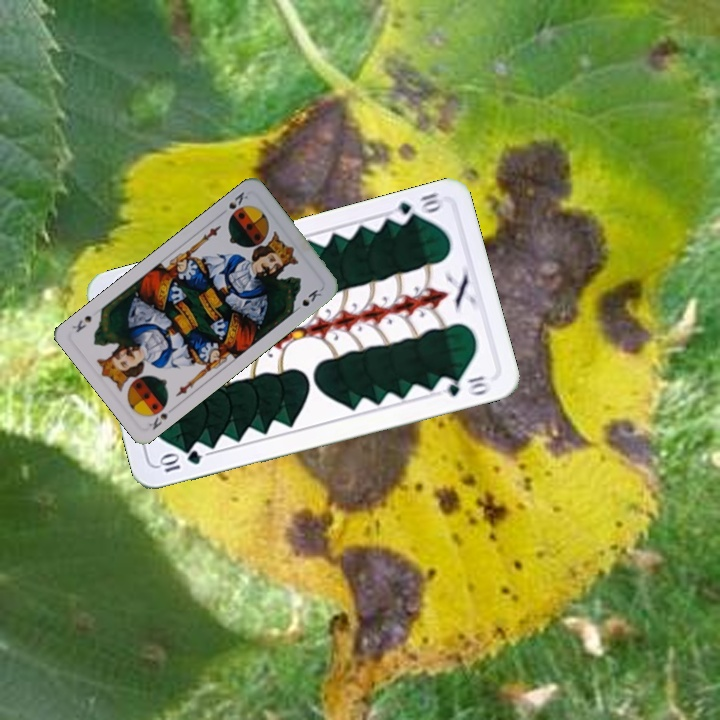G10: (388, 188, 447, 227), (155, 446, 204, 475)
SK: (145, 398, 177, 433), (225, 187, 251, 212)
